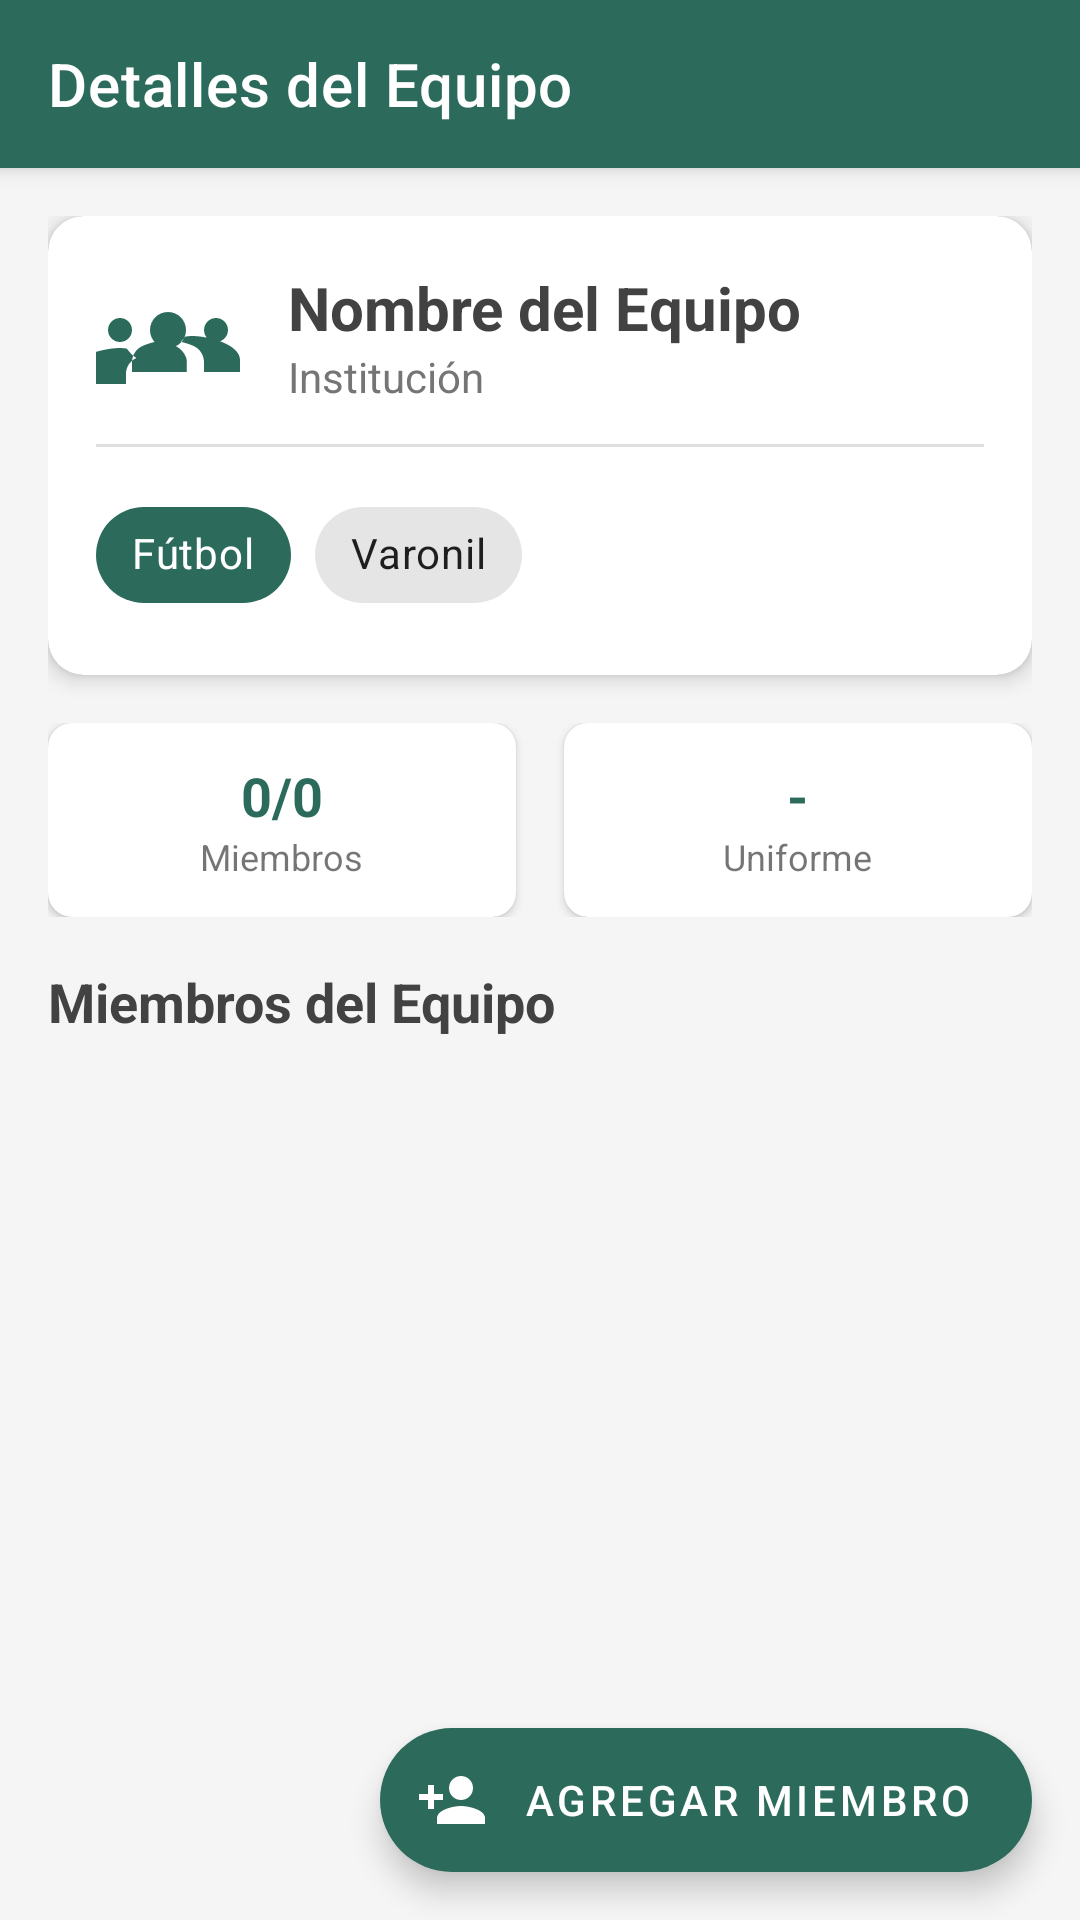

Named icons in this screenshot (1080px×1920px) and their centers, point (x, y):
groups: point (168, 348)
